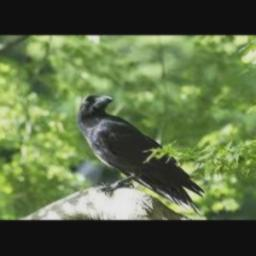Crow: (77, 92, 205, 217)
